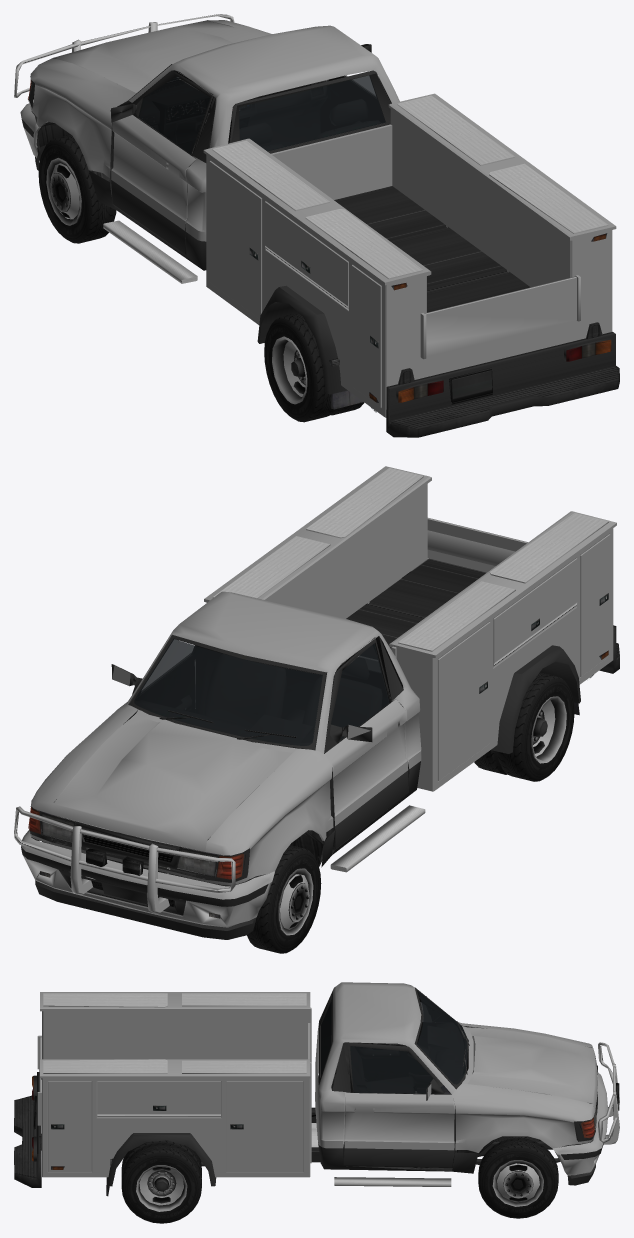
File: car3_pickup_utility_90.glb
3 views of the same model, one above another, from view 1: azimuth 30°, elevation 25°; view 2: azimuth 150°, elevation 25°; view 3: azimuth 270°, elevation 25° (orthographic). The views are drawn at different scales.
Visible parts, largest first — view 1: UTLTRUCK90_Servisebed_UTLTRUCK90_Bodymat_0, UTLTRUCK90_Body_UTLTRUCK90_Bodymat_0, UTLTRUCK90_Servisebed_Trim_UCB_BOTTOM_0, UTLTRUCK90_Bumper_rear_UCB_BOTTOM_0, UTLTRUCK90_Interior_UCB_Interiors_1_0, UTLTRUCK90_bottom_UCB_BOTTOM_0, UTLTRUCK90_Glass_Rear_UCB_Lights_and_Glass_Transperent_0, UTLTRUCK90_Hood_UTLTRUCK90_Bodymat_0, UTLTRUCK90_WheelStock_RL_RB1c_Tire_1k_0, UTLTRUCK90_WheelStock_FL_RB1c_Tire_1k_0, UTLTRUCK90_Glass_Driver_UCB_Lights_and_Glass_Transperent_0, UTLTRUCK90_Taillights_Glass_UCB_Lights_and_Glass_Transperent (+2 smaller); view 2: UTLTRUCK90_Servisebed_UTLTRUCK90_Bodymat_0, UTLTRUCK90_Body_UTLTRUCK90_Bodymat_0, UTLTRUCK90_Servisebed_Trim_UCB_BOTTOM_0, UTLTRUCK90_Hood_UTLTRUCK90_Bodymat_0, UTLTRUCK90_Interior_UCB_Interiors_1_0, UTLTRUCK90_bottom_UCB_BOTTOM_0, UTLTRUCK90_Windshield_UCB_Lights_and_Glass_Transperent_0, UTLTRUCK90_Bumper_front_inner_UCB_BOTTOM_0, UTLTRUCK90_WheelStock_RL_RB1c_Tire_1k_0, UTLTRUCK90_WheelStock_FL_RB1c_Tire_1k_0, UTLTRUCK90_Bullbar_A_UCB_BOTTOM_0, UTLTRUCK90_Glass_Driver_UCB_Lights_and_Glass_Transperent_0 (+3 smaller); view 3: UTLTRUCK90_Servisebed_UTLTRUCK90_Bodymat_0, UTLTRUCK90_Body_UTLTRUCK90_Bodymat_0, UTLTRUCK90_Servisebed_Trim_UCB_BOTTOM_0, UTLTRUCK90_bottom_UCB_BOTTOM_0, UTLTRUCK90_Hood_UTLTRUCK90_Bodymat_0, UTLTRUCK90_Interior_UCB_Interiors_1_0, UTLTRUCK90_WheelStock_RR_RB1c_Tire_1k_0, UTLTRUCK90_WheelStock_FR_RB1c_Tire_1k_0, UTLTRUCK90_Glass_Passenger_UCB_Lights_and_Glass_Transperent_, UTLTRUCK90_Windshield_UCB_Lights_and_Glass_Transperent_0, UTLTRUCK90_Bumper_rear_UCB_BOTTOM_0, UTLTRUCK90_Bullbar_A_UCB_BOTTOM_0 (+3 smaller).
Boxes of the visible parts, x1=… form: UTLTRUCK90_Servisebed_UTLTRUCK90_Bodymat_0: x1=203, y1=93, x2=616, y2=417; UTLTRUCK90_Body_UTLTRUCK90_Bodymat_0: x1=29, y1=20, x2=399, y2=241; UTLTRUCK90_Servisebed_Trim_UCB_BOTTOM_0: x1=212, y1=95, x2=608, y2=402; UTLTRUCK90_Bumper_rear_UCB_BOTTOM_0: x1=386, y1=322, x2=619, y2=437; UTLTRUCK90_Interior_UCB_Interiors_1_0: x1=140, y1=76, x2=391, y2=237; UTLTRUCK90_bottom_UCB_BOTTOM_0: x1=28, y1=20, x2=390, y2=412; UTLTRUCK90_Glass_Rear_UCB_Lights_and_Glass_Transperent_0: x1=239, y1=75, x2=385, y2=151; UTLTRUCK90_Hood_UTLTRUCK90_Bodymat_0: x1=54, y1=20, x2=260, y2=92; UTLTRUCK90_WheelStock_RL_RB1c_Tire_1k_0: x1=264, y1=313, x2=364, y2=422; UTLTRUCK90_WheelStock_FL_RB1c_Tire_1k_0: x1=38, y1=134, x2=116, y2=243; UTLTRUCK90_Glass_Driver_UCB_Lights_and_Glass_Transperent_0: x1=139, y1=77, x2=209, y2=154; UTLTRUCK90_Taillights_Glass_UCB_Lights_and_Glass_Transperent: x1=398, y1=339, x2=611, y2=402; UTLTRUCK90_Servisebed_UTLTRUCK90_Bodymat_0: x1=204, y1=466, x2=616, y2=791; UTLTRUCK90_Body_UTLTRUCK90_Bodymat_0: x1=29, y1=591, x2=421, y2=885; UTLTRUCK90_Servisebed_Trim_UCB_BOTTOM_0: x1=212, y1=468, x2=608, y2=753; UTLTRUCK90_Hood_UTLTRUCK90_Bodymat_0: x1=51, y1=714, x2=292, y2=851; UTLTRUCK90_Interior_UCB_Interiors_1_0: x1=136, y1=636, x2=403, y2=748; UTLTRUCK90_bottom_UCB_BOTTOM_0: x1=29, y1=634, x2=593, y2=886; UTLTRUCK90_Windshield_UCB_Lights_and_Glass_Transperent_0: x1=134, y1=638, x2=322, y2=745; UTLTRUCK90_Bumper_front_inner_UCB_BOTTOM_0: x1=21, y1=834, x2=271, y2=939; UTLTRUCK90_WheelStock_RL_RB1c_Tire_1k_0: x1=474, y1=672, x2=574, y2=781; UTLTRUCK90_WheelStock_FL_RB1c_Tire_1k_0: x1=247, y1=845, x2=321, y2=953; UTLTRUCK90_Bullbar_A_UCB_BOTTOM_0: x1=14, y1=806, x2=235, y2=913; UTLTRUCK90_Glass_Driver_UCB_Lights_and_Glass_Transperent_0: x1=331, y1=643, x2=389, y2=741; UTLTRUCK90_Servisebed_UTLTRUCK90_Bodymat_0: x1=37, y1=992, x2=311, y2=1177; UTLTRUCK90_Body_UTLTRUCK90_Bodymat_0: x1=315, y1=982, x2=596, y2=1152; UTLTRUCK90_Servisebed_Trim_UCB_BOTTOM_0: x1=41, y1=993, x2=306, y2=1186; UTLTRUCK90_bottom_UCB_BOTTOM_0: x1=41, y1=987, x2=597, y2=1196; UTLTRUCK90_Hood_UTLTRUCK90_Bodymat_0: x1=467, y1=1027, x2=597, y2=1110; UTLTRUCK90_Interior_UCB_Interiors_1_0: x1=322, y1=992, x2=468, y2=1157; UTLTRUCK90_WheelStock_RR_RB1c_Tire_1k_0: x1=121, y1=1140, x2=201, y2=1223; UTLTRUCK90_WheelStock_FR_RB1c_Tire_1k_0: x1=478, y1=1138, x2=558, y2=1218; UTLTRUCK90_Glass_Passenger_UCB_Lights_and_Glass_Transperent_: x1=350, y1=1046, x2=433, y2=1093; UTLTRUCK90_Windshield_UCB_Lights_and_Glass_Transperent_0: x1=417, y1=990, x2=467, y2=1084; UTLTRUCK90_Bumper_rear_UCB_BOTTOM_0: x1=14, y1=1069, x2=41, y2=1187; UTLTRUCK90_Bullbar_A_UCB_BOTTOM_0: x1=598, y1=1042, x2=619, y2=1144.
Bounding box in the file's own units: 2.03 × 1.69 × 5.5.
Materials: 6 (5 with a texture image).
